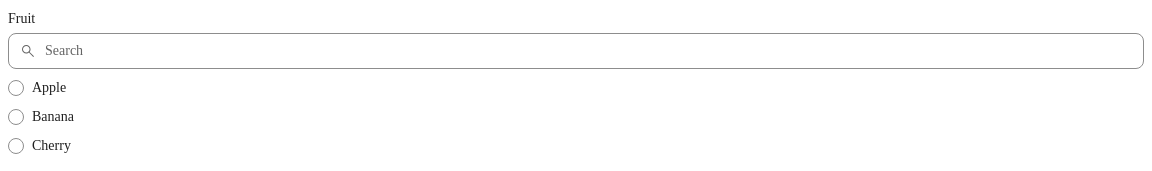
Test: filter narrows options case-insensitively
In the search field labelled "Fruit": (576, 51) [8,33,1144,69], type "aN"
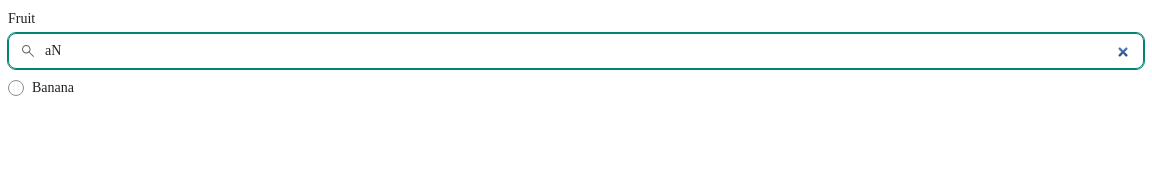
expect the radio button named "Banana" is shown: met, box [8,80,24,96]
expect the label "Apple" is gone: met
